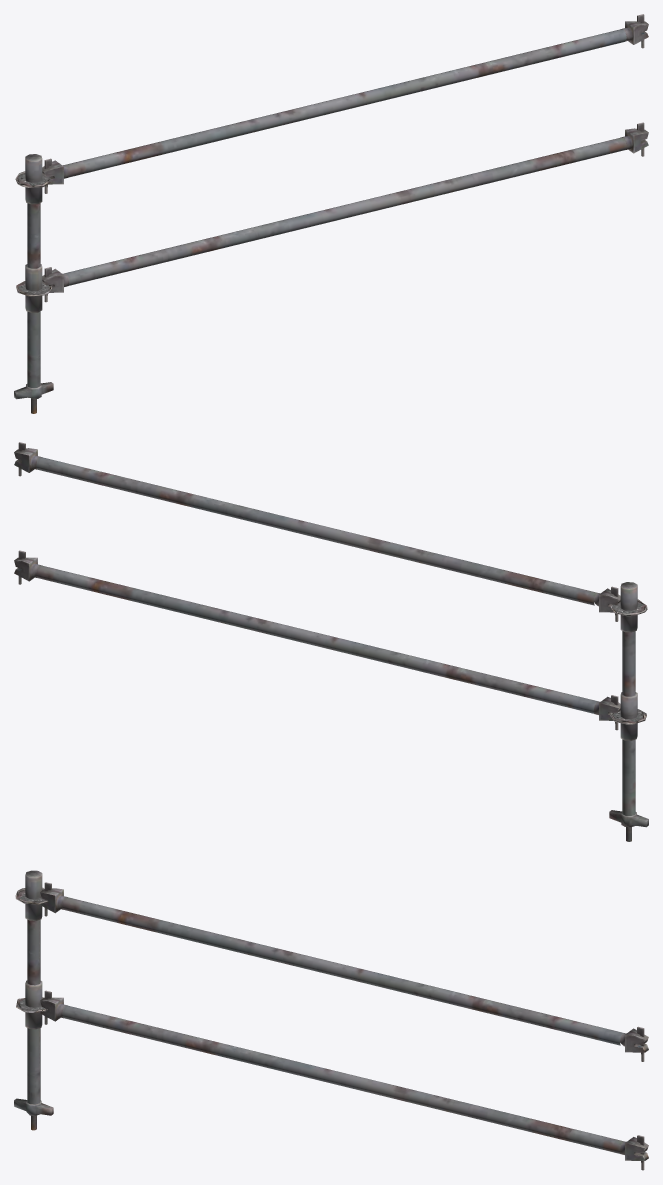
File: improvised_walkway_railing_300_a_a.glb
3 renders of one model, top to bottom at view 1: azimuth 30°, elevation 25°; view 2: azimuth 150°, elevation 25°; view 3: azimuth 330°, elevation 25°, orthographic.
Parts seen in each view (by area): view 1: improvised_walkway_railing_300_a_a; view 2: improvised_walkway_railing_300_a_a; view 3: improvised_walkway_railing_300_a_a.
Part boxes in pixels (x1,y1,x2,y2): improvised_walkway_railing_300_a_a: (14,14,648,413); improvised_walkway_railing_300_a_a: (14,442,648,841); improvised_walkway_railing_300_a_a: (14,870,648,1170).
Size of the model in its own units: 3.05 by 1.18 by 0.1559.
Materials: 1 (1 with a texture image).
